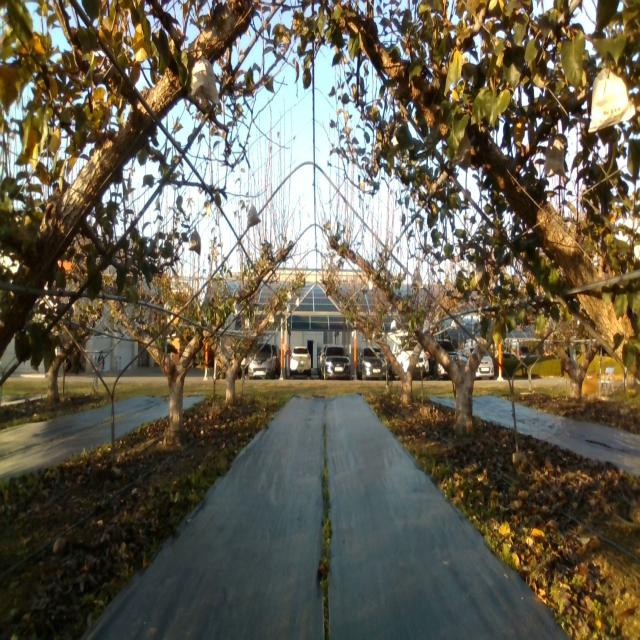pearbags: (588, 66, 636, 134), (191, 55, 220, 104), (544, 138, 566, 179), (190, 229, 202, 254), (248, 204, 260, 227), (412, 268, 424, 290)
